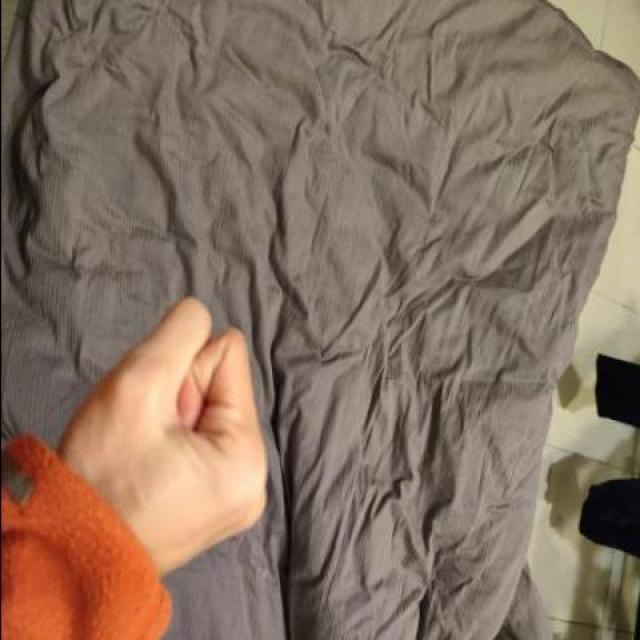Closed Hand: (42, 293, 286, 584)
